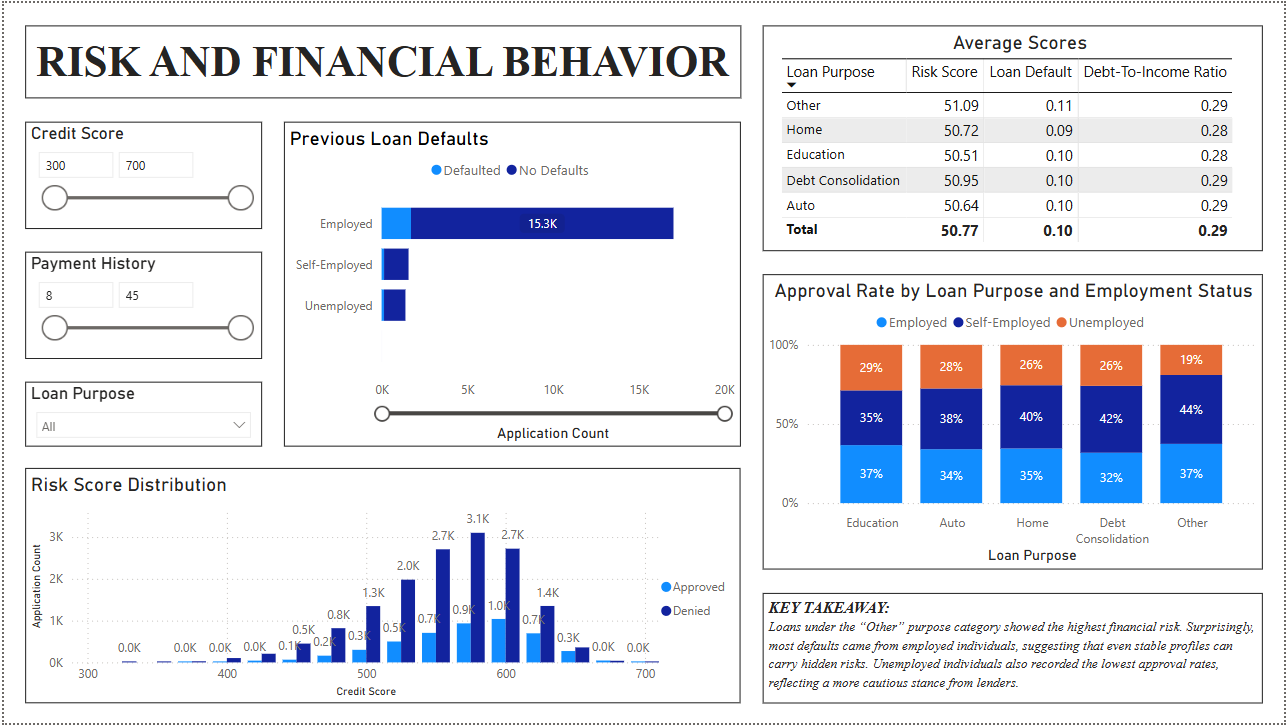

This screenshot's page, from the dashboard's own definition file:
{"tool":"powerbi","page":{"name":"Risk and Financial Behavior","canvas":[1280,720],"ordinal":1},"visuals":[{"type":"textbox","box":[21.4,22.9,715.7,72.9],"z":0},{"type":"clusteredColumnChart","title":"Risk Score Distribution ","fields":{"Y":["CountNonNull(Loan.LoanApproved)"],"Category":["Loan.CreditScore (bins2)"],"Series":["Loan.LoanStatusLabel"]},"box":[21.7,465,715,235],"z":1000},{"type":"pivotTable","title":"Average Scores","fields":{"Rows":["Loan.LoanPurpose_Cleaned"],"Values":["Avg(Loan.RiskScore)","Avg(Loan.PreviousLoanDefaults)","Avg(Loan.DebtToIncomeRatio)"]},"box":[758.6,22.9,500,225.7],"z":2000},{"type":"barChart","title":"Previous Loan Defaults","fields":{"Category":["Loan.EmploymentStatus"],"Y":["Loan.LoanDefaultCount","Loan.NOLoanDefaultCount"]},"box":[280,118.3,456.7,325],"z":3000},{"type":"slicer","title":"Credit Score","fields":{"Values":["Loan.CreditScore (bins)"]},"box":[21.4,118.6,237.1,107.1],"z":4000},{"type":"slicer","title":"Payment History","fields":{"Values":["Loan.PaymentHistory"]},"box":[21.4,248.6,237.1,107.1],"z":5000},{"type":"textbox","box":[758.6,590,500,110],"z":6000},{"type":"slicer","title":"Loan Purpose","fields":{"Values":["Loan.LoanPurpose_Cleaned"]},"box":[21.7,378.3,236.7,65],"z":7000},{"type":"hundredPercentStackedColumnChart","title":"Approval Rate by Loan Purpose and Employment Status","fields":{"Category":["Loan.LoanPurpose"],"Y":["Avg(Loan.LoanApproved)"],"Series":["Loan.EmploymentStatus"]},"box":[758.3,271.7,500,295],"z":8000}]}

Visuals, with their boxes in screenshot pixels (x1, y1, x2, y2), scaled from the page's 1280x720 canvas onto the 1287x725 screenshot:
textbox: [left=22, top=23, right=741, bottom=96]
"Risk Score Distribution " clusteredColumnChart: [left=22, top=468, right=741, bottom=705]
"Average Scores" pivotTable: [left=763, top=23, right=1265, bottom=250]
"Previous Loan Defaults" barChart: [left=282, top=119, right=741, bottom=446]
"Credit Score" slicer: [left=22, top=119, right=260, bottom=227]
"Payment History" slicer: [left=22, top=250, right=260, bottom=358]
textbox: [left=763, top=594, right=1265, bottom=705]
"Loan Purpose" slicer: [left=22, top=381, right=260, bottom=446]
"Approval Rate by Loan Purpose and Employment Status" hundredPercentStackedColumnChart: [left=762, top=274, right=1265, bottom=571]
